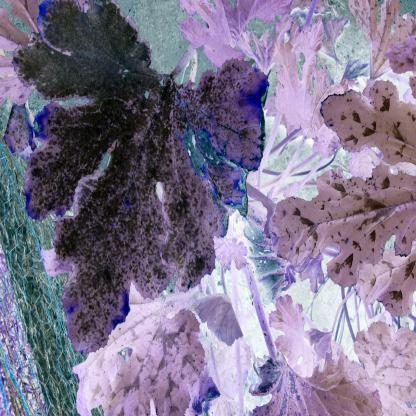Squash Powdery mildew leaf: (6, 0, 272, 354)
